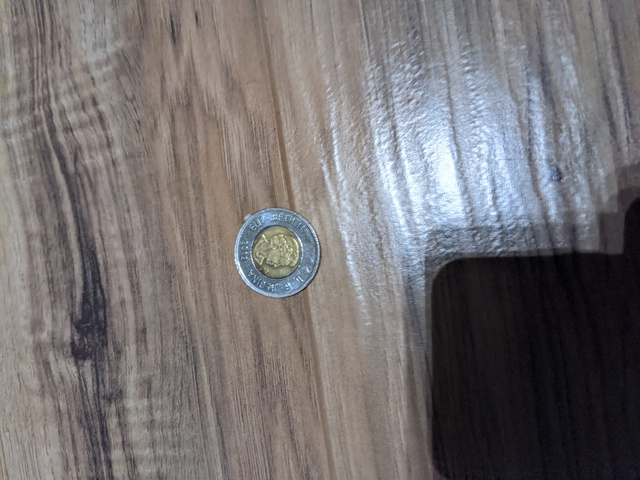twonie: (228, 210, 327, 299)
